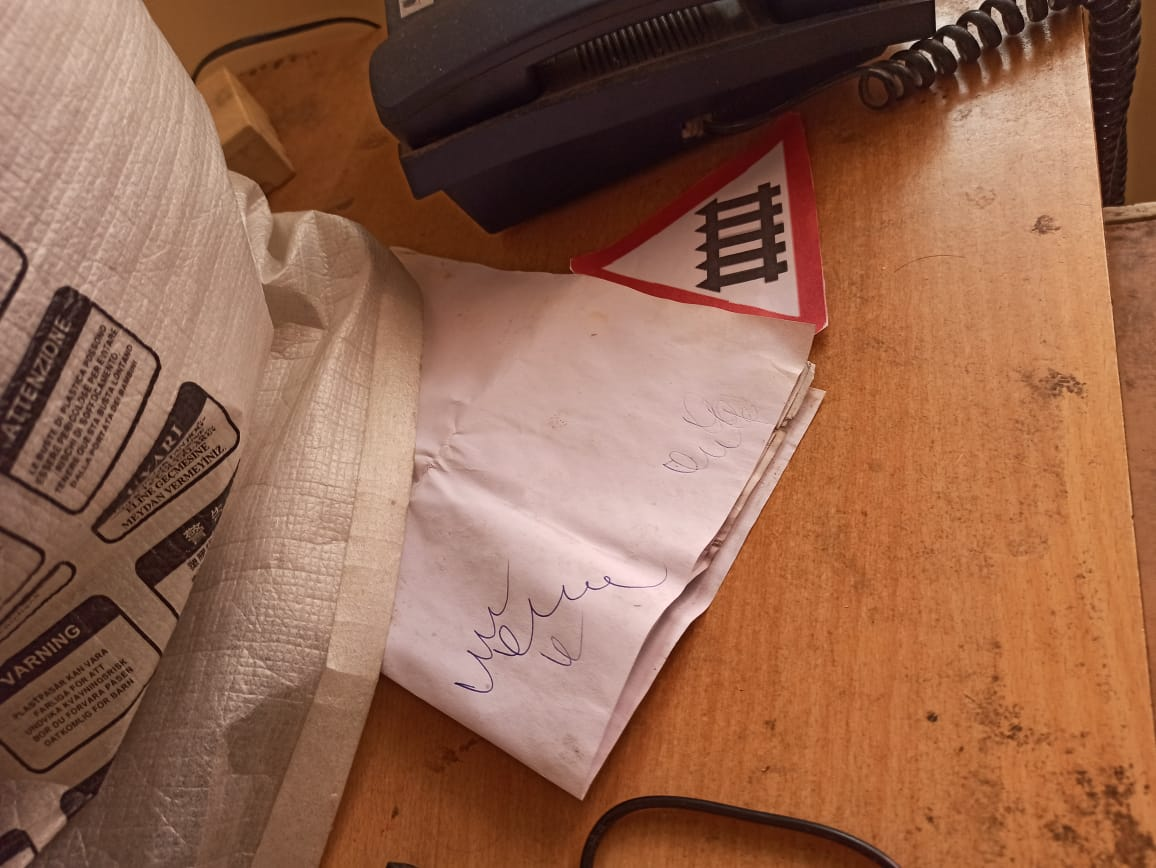GUARDED LEVEL CROSSING: (563, 103, 836, 344)
